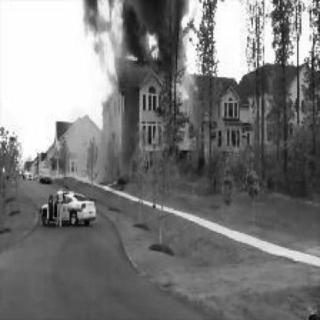Fire: (84, 0, 122, 100)
